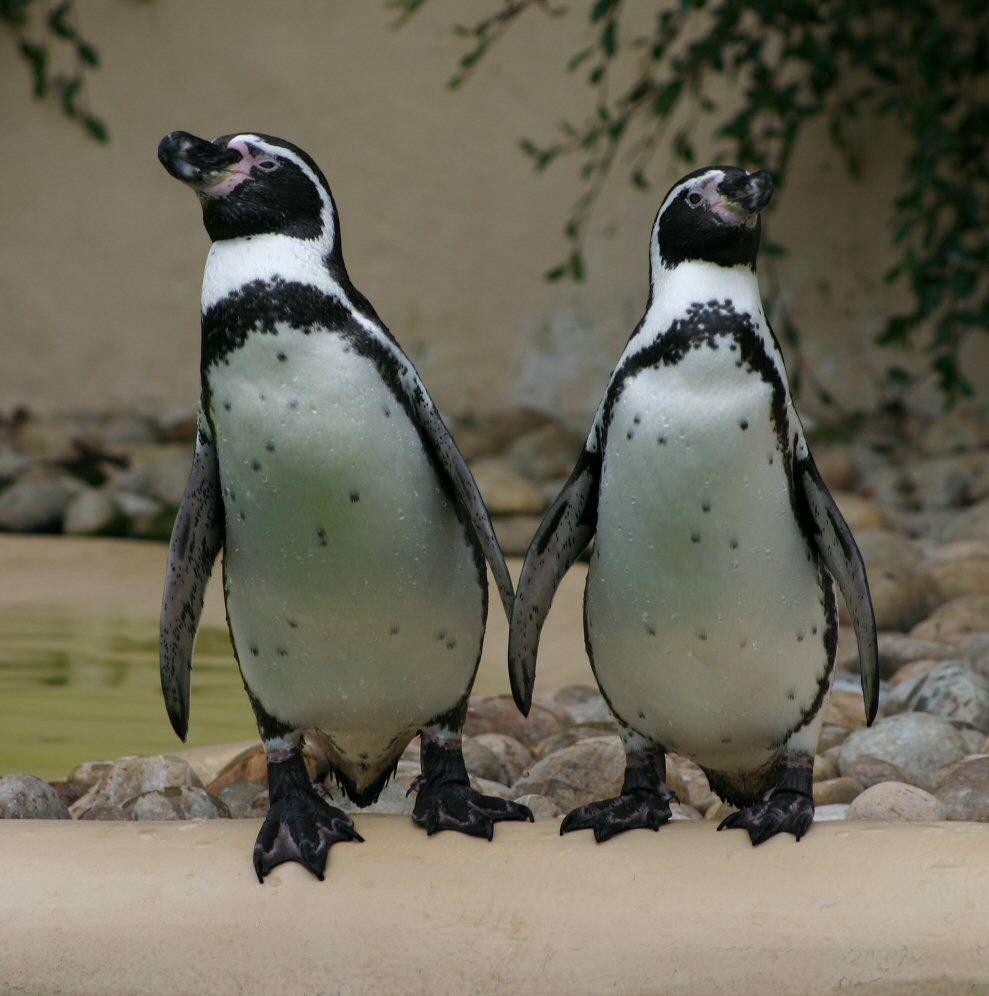penguin: (505, 160, 888, 845), (158, 127, 508, 872)
